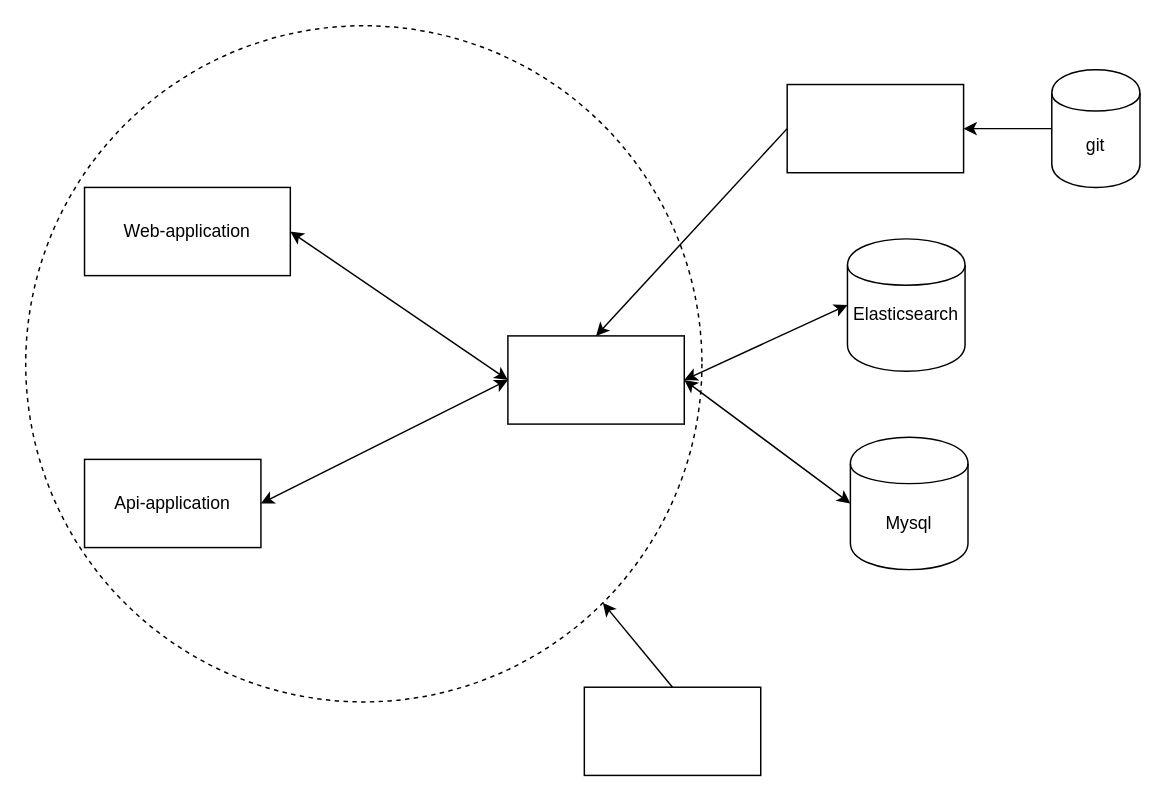
Some shapes in this 1166 by 801 pixel diagram are drawn without their labels. The box of each missing label's shape, as (x1, y1, x2, y2) in pixels:
Config-sever: (786, 83, 964, 173)
Eureka-server: (583, 686, 761, 775)
Service-application: (506, 334, 684, 424)
